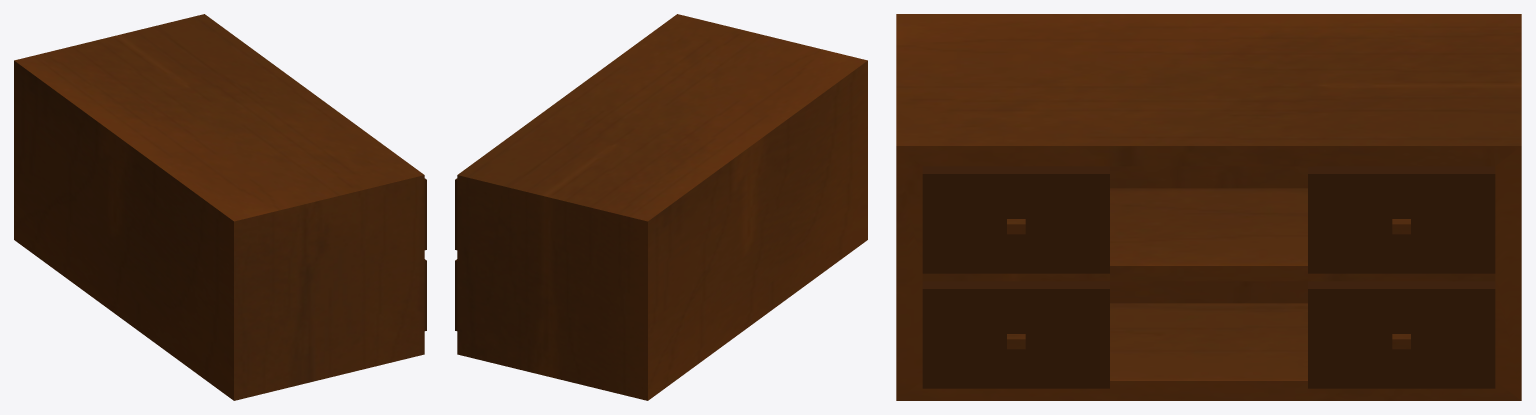
File: Cupboard2 Model.fbx
3 views of the same model, side by side, from view 1: azimuth 30°, elevation 25°; view 2: azimuth 150°, elevation 25°; view 3: azimuth 270°, elevation 25° (orthographic). The views are drawn at different scales.
Parts seen in each view (by area): view 1: Cube; view 2: Cube; view 3: Cube.
Part boxes in pixels (x1=…): Cube: x1=14, y1=14, x2=426, y2=400; Cube: x1=455, y1=14, x2=867, y2=400; Cube: x1=896, y1=14, x2=1521, y2=400.
Size of the model in its own units: 88.03 by 72 by 160.
Materials: 2 (1 with a texture image).
